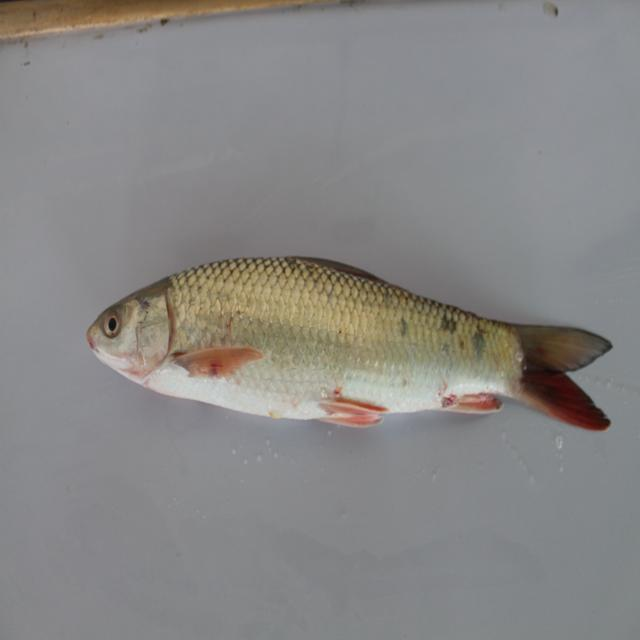Mori: (79, 245, 624, 465)
